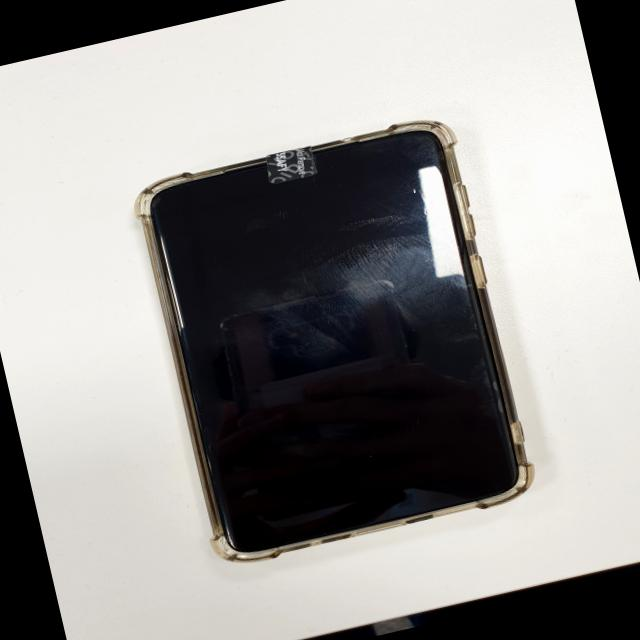phone: (125, 110, 540, 574)
removed_sticker: (261, 146, 318, 187)
